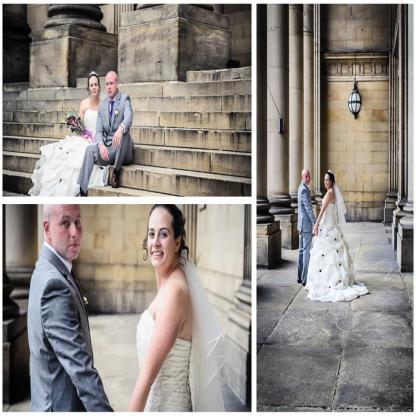face: (51, 205, 84, 260), (149, 209, 176, 267), (106, 75, 117, 97), (90, 77, 100, 95), (304, 172, 311, 185), (325, 176, 331, 189)
